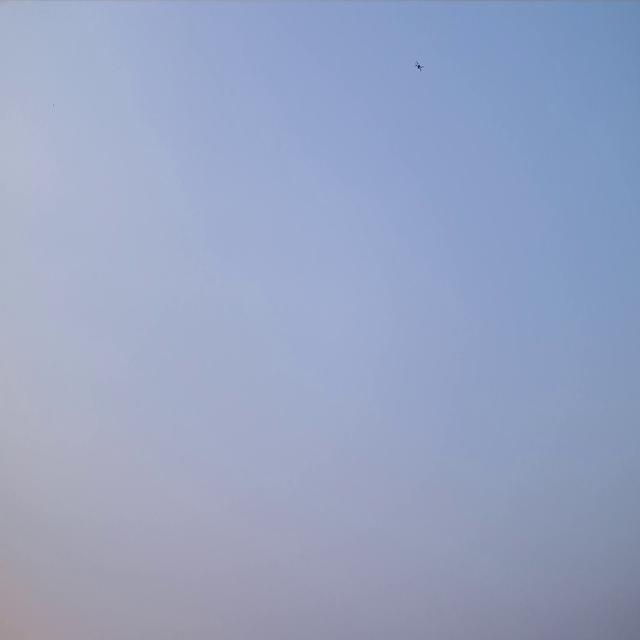UAV: (415, 60, 423, 72)
